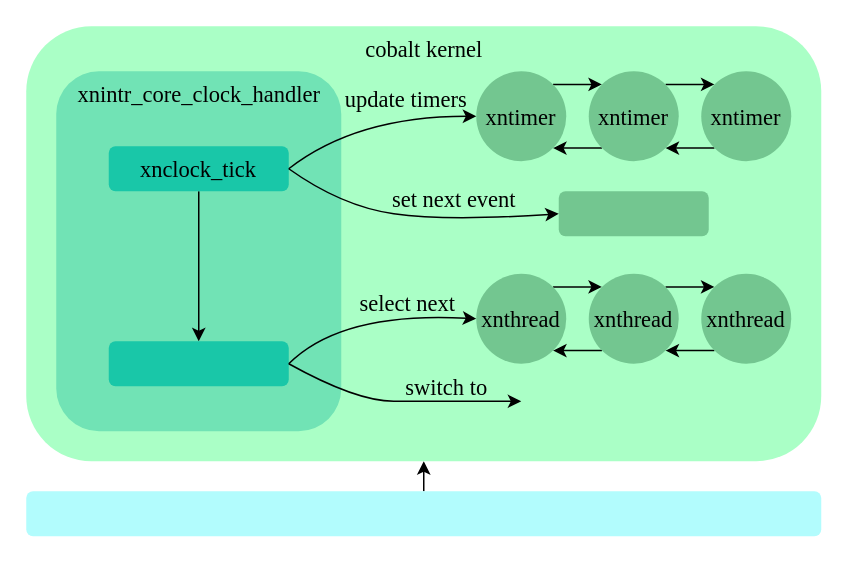
The diagram is 846 pixels wide and 561 high, and some of its shapes have lost their labels. Here are the shapes that lost their labels. From the top down, the centre of each, then its label:
[633,213]: TCFG
[198,363]: xnsched_run
[423,513]: I-pipe
